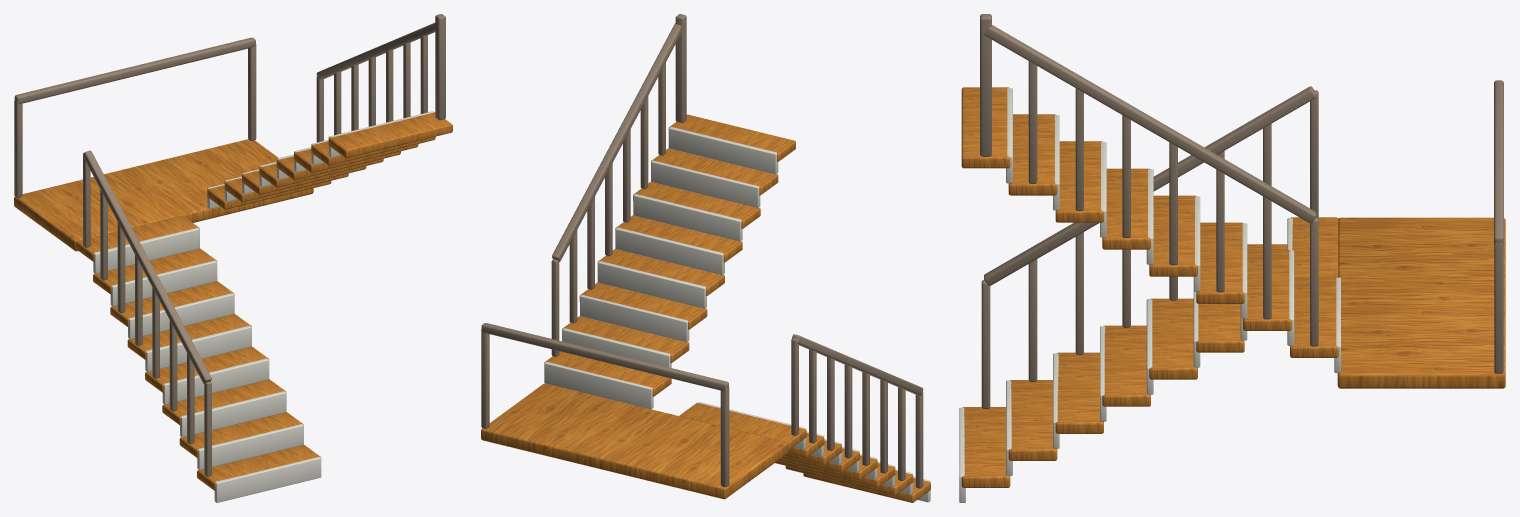
The model's file is stairs-switchback.glb.
The picture shows the model from 3 angles, left to right: view 1: azimuth 30°, elevation 25°; view 2: azimuth 150°, elevation 25°; view 3: azimuth 270°, elevation 25°; orthographic projection. The views are drawn at different scales.
Parts seen in each view (by area): view 1: stairs-switchback; view 2: stairs-switchback; view 3: stairs-switchback.
Boxes of the visible parts, box(x1,y1,x2,y2) form: stairs-switchback: box(14, 14, 452, 502); stairs-switchback: box(481, 14, 930, 502); stairs-switchback: box(959, 14, 1505, 502).
Size of the model in its own units: 2.2 by 3.7 by 3.2.
Materials: 3 (1 with a texture image).
